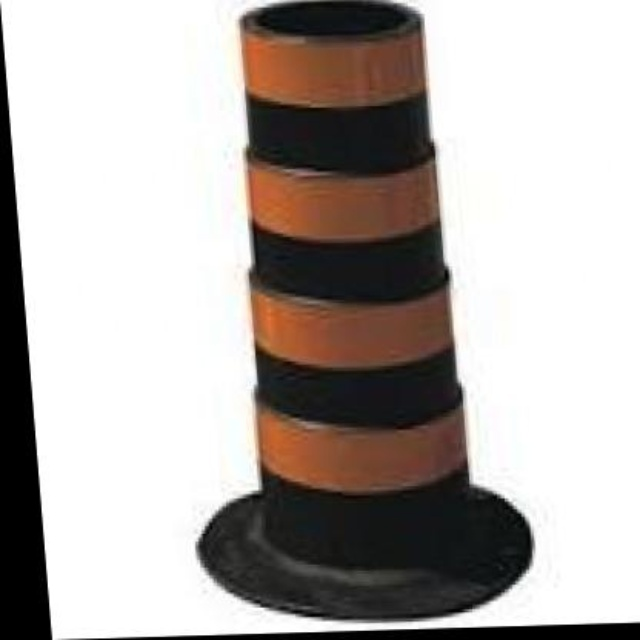obstacle: (223, 0, 478, 575)
